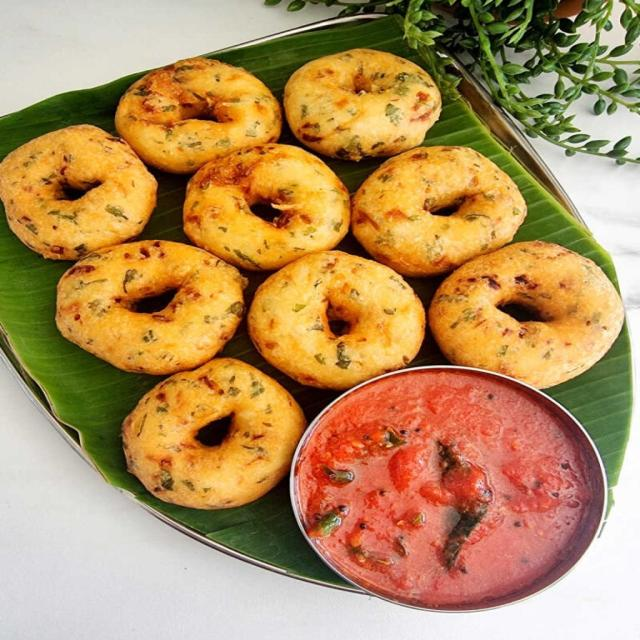medu vadai: (183, 144, 425, 388), (429, 241, 624, 388), (122, 358, 306, 509), (56, 240, 245, 374), (352, 146, 526, 276), (0, 125, 157, 260), (115, 58, 282, 173), (284, 49, 441, 161)
